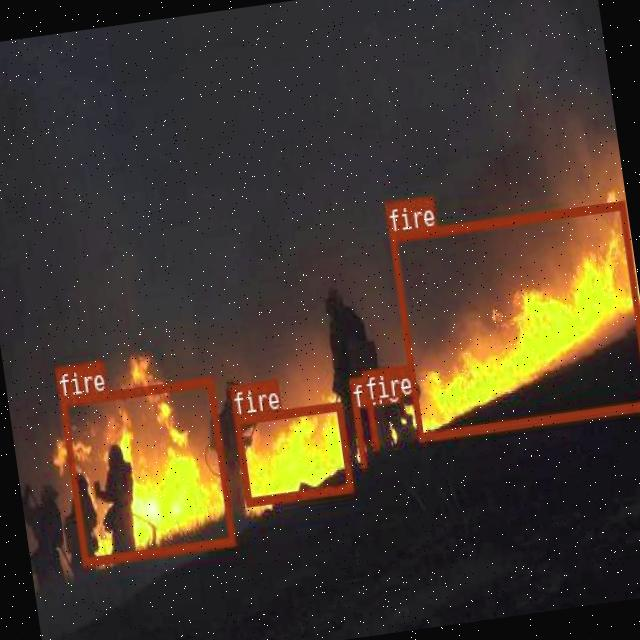fire: (389, 199, 640, 440), (59, 376, 234, 564), (233, 400, 352, 504), (352, 408, 366, 466), (365, 401, 378, 448)
